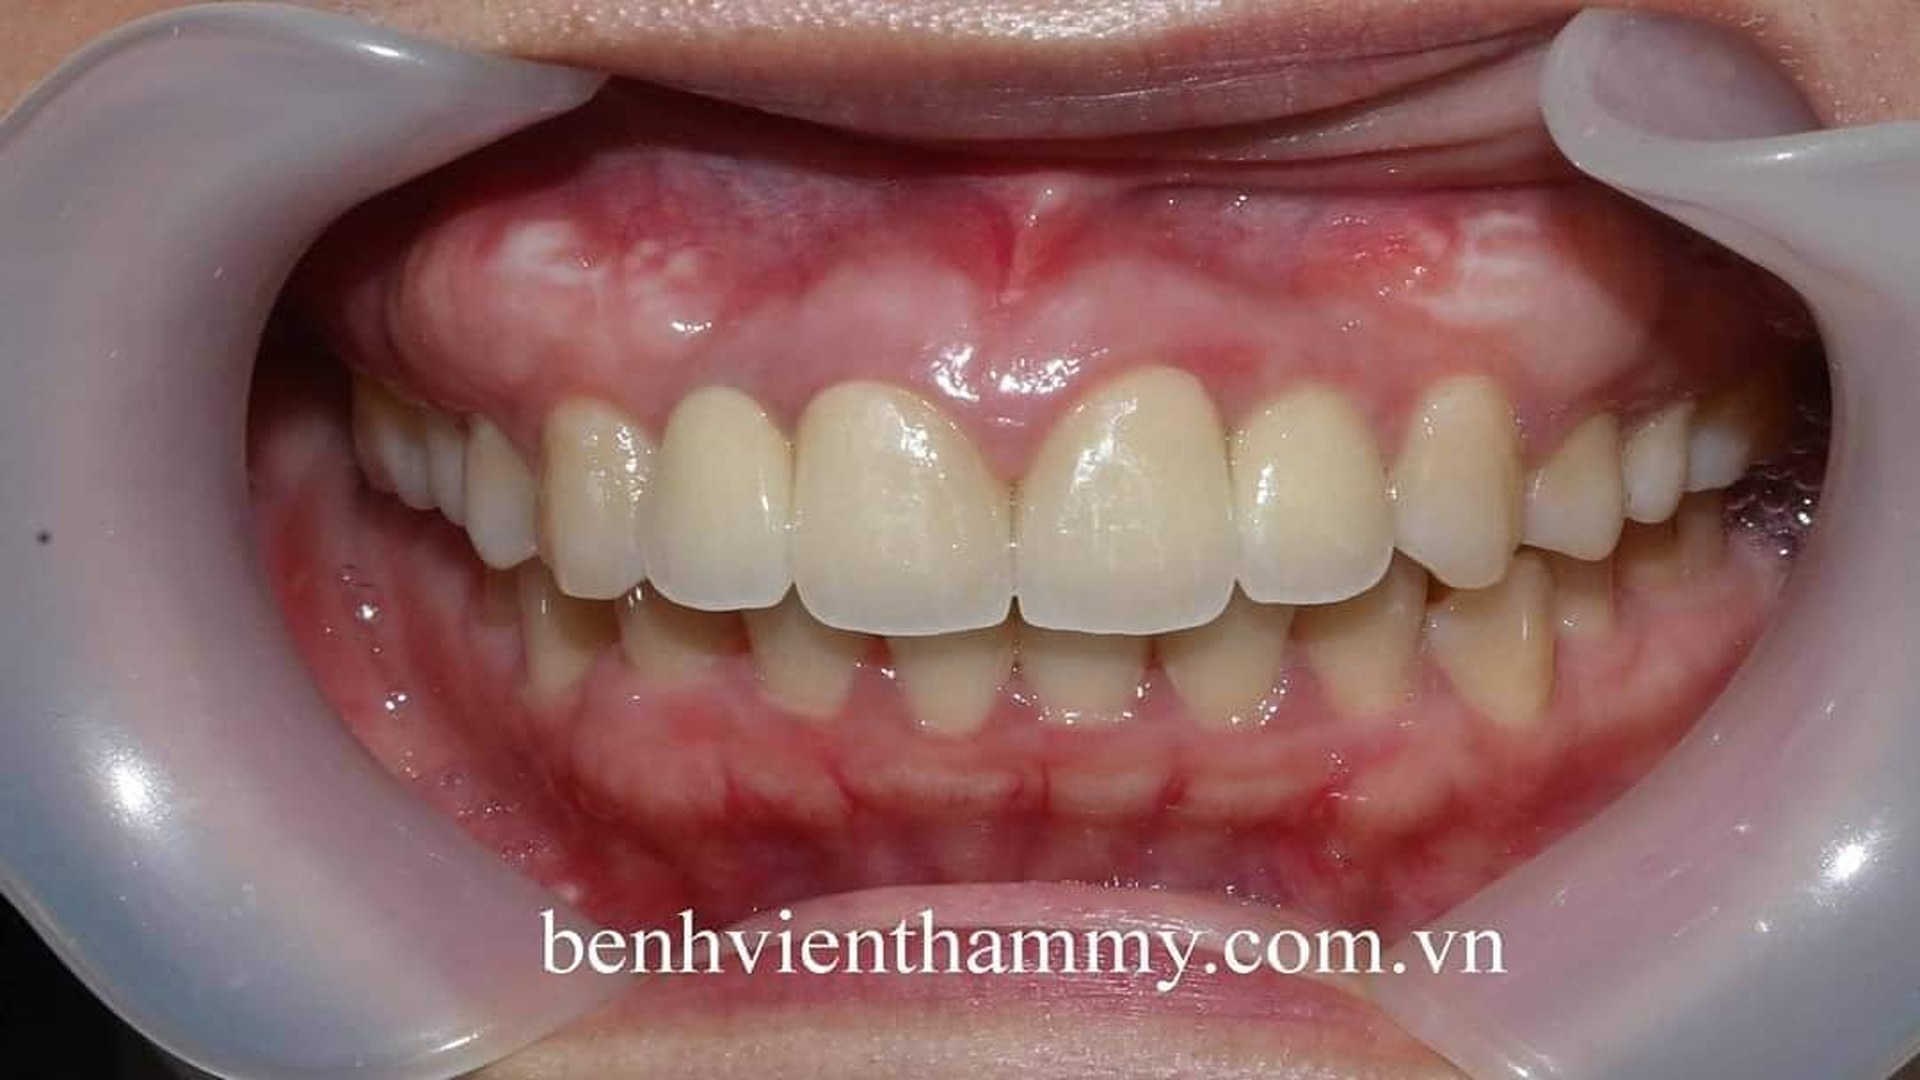tooth: (1017, 367, 1240, 636), (791, 381, 1014, 637), (1226, 390, 1395, 605), (636, 386, 793, 611), (1389, 376, 1523, 589), (537, 397, 655, 599), (1423, 547, 1555, 725), (1302, 549, 1429, 717), (1156, 587, 1295, 732), (741, 585, 864, 719), (1523, 414, 1625, 560), (886, 617, 1013, 735), (615, 578, 750, 682), (517, 556, 611, 694), (1014, 624, 1145, 720), (465, 413, 538, 568), (1621, 402, 1692, 524), (427, 411, 468, 526)
